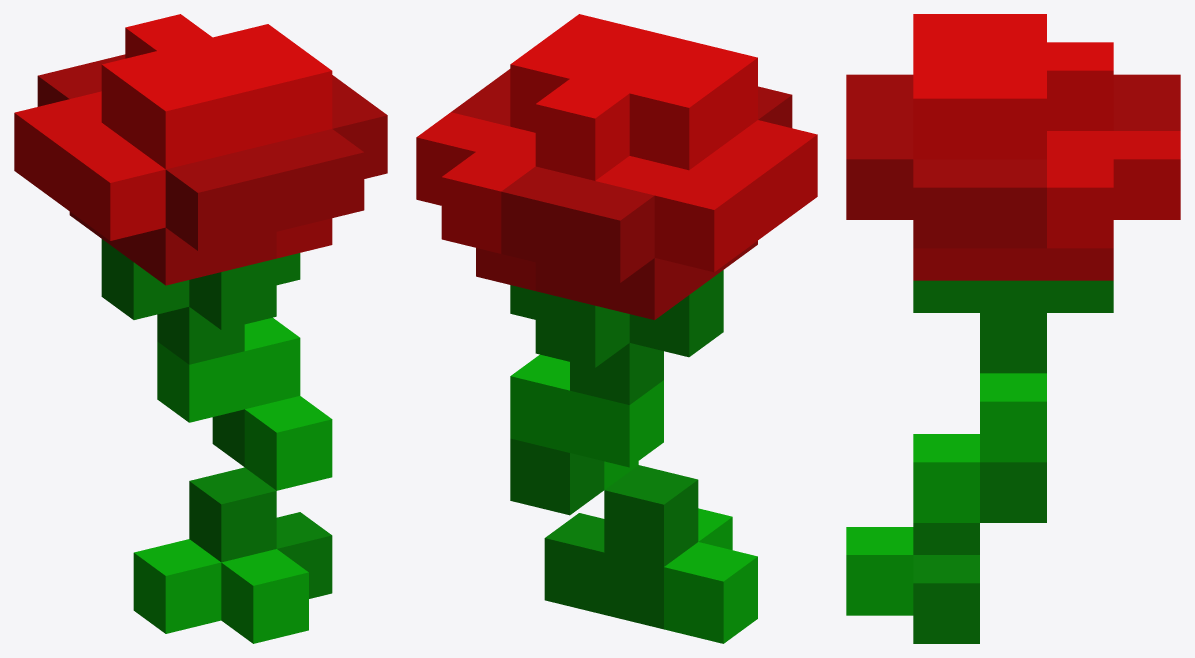
The model's file is flower_rose.glb.
The picture shows the model from 3 angles, left to right: view 1: azimuth 30°, elevation 25°; view 2: azimuth 150°, elevation 25°; view 3: azimuth 270°, elevation 25°; orthographic projection. The views are drawn at different scales.
Parts seen in each view (by area): view 1: flower_rose; view 2: flower_rose; view 3: flower_rose.
Part boxes in pixels (box(x1,y1,x2,y2)): flower_rose: box(14, 14, 387, 643); flower_rose: box(416, 14, 817, 643); flower_rose: box(846, 14, 1180, 643).
Size of the model in its own units: 0.5 by 0.9 by 0.5.
Materials: 1 (1 with a texture image).
